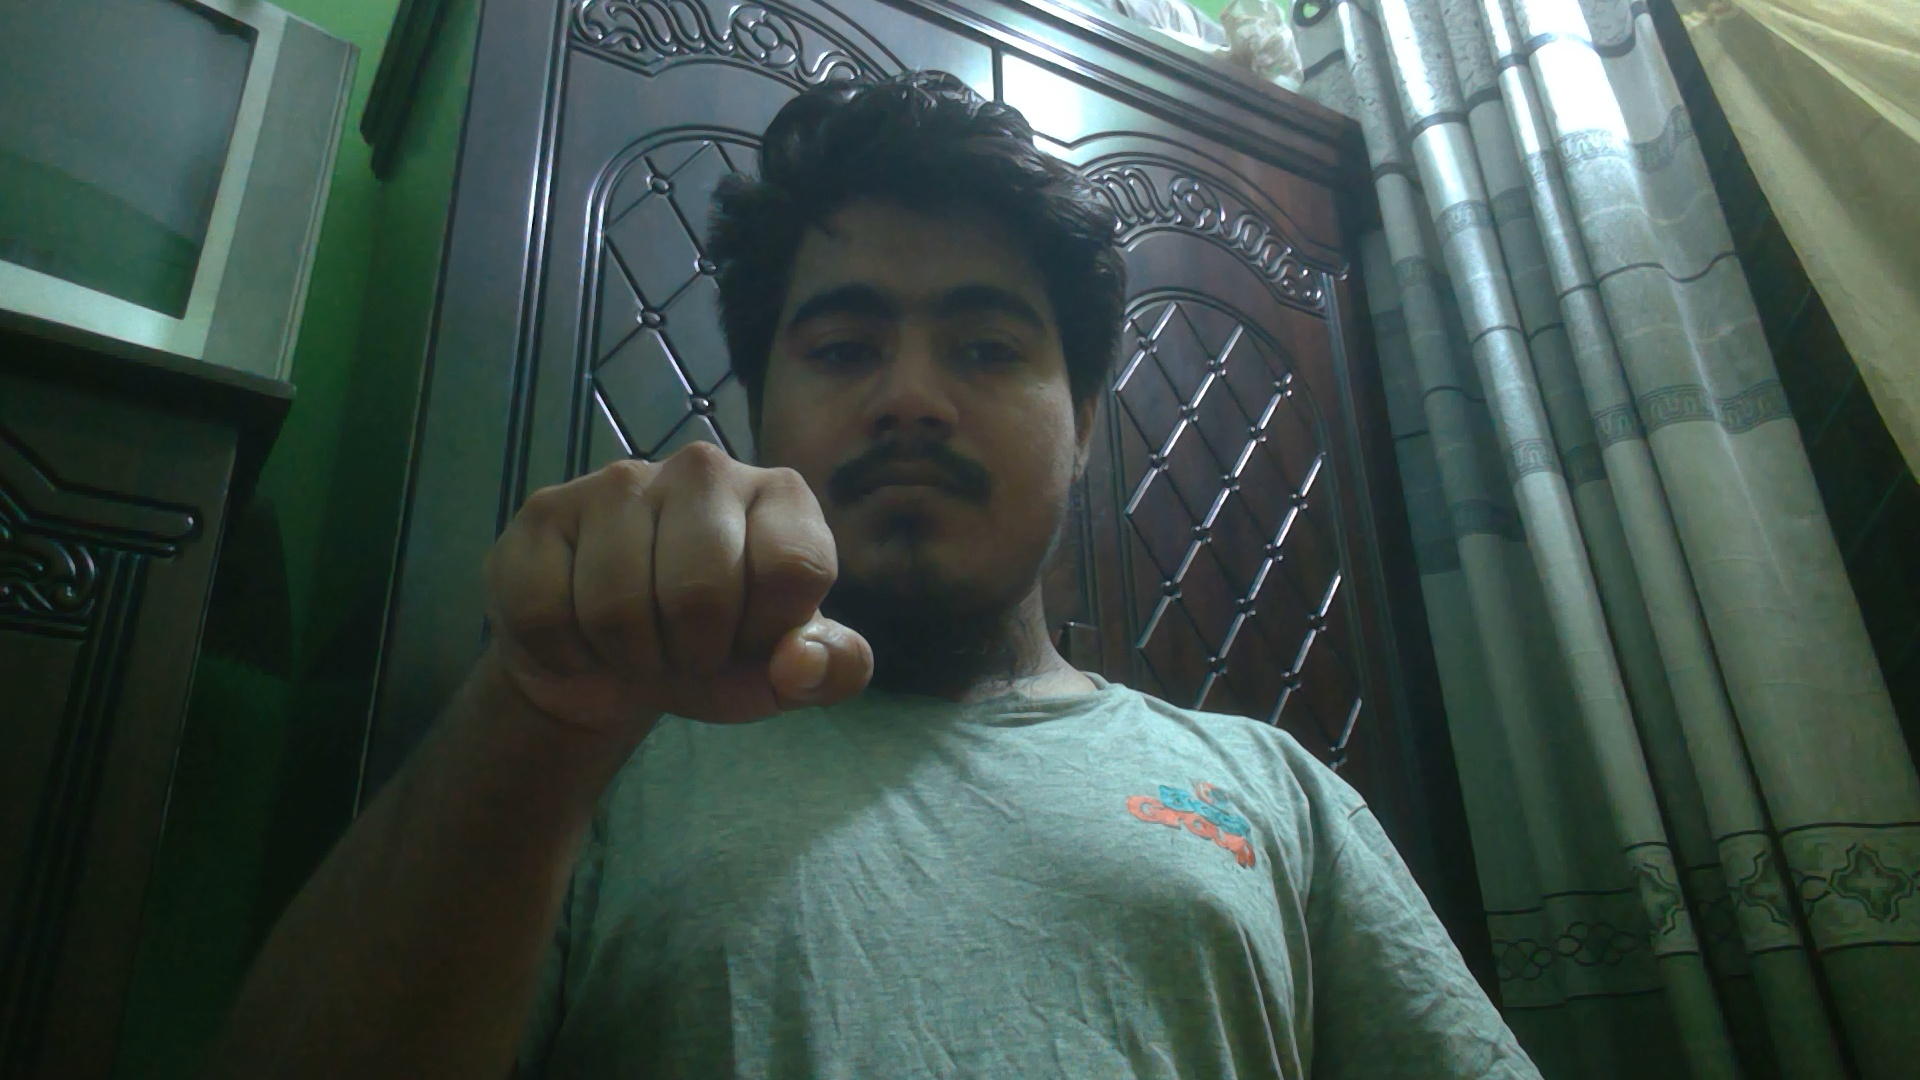yes: (476, 434, 884, 757)
